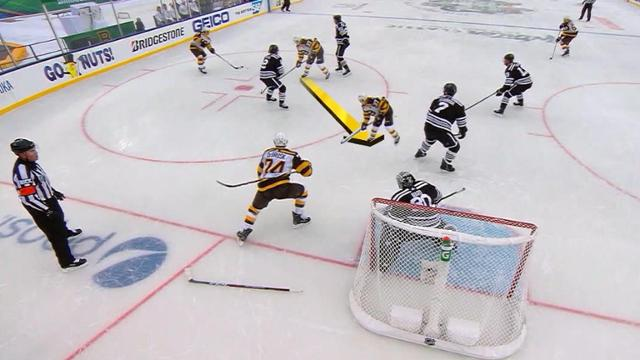geico: (188, 10, 236, 34)
